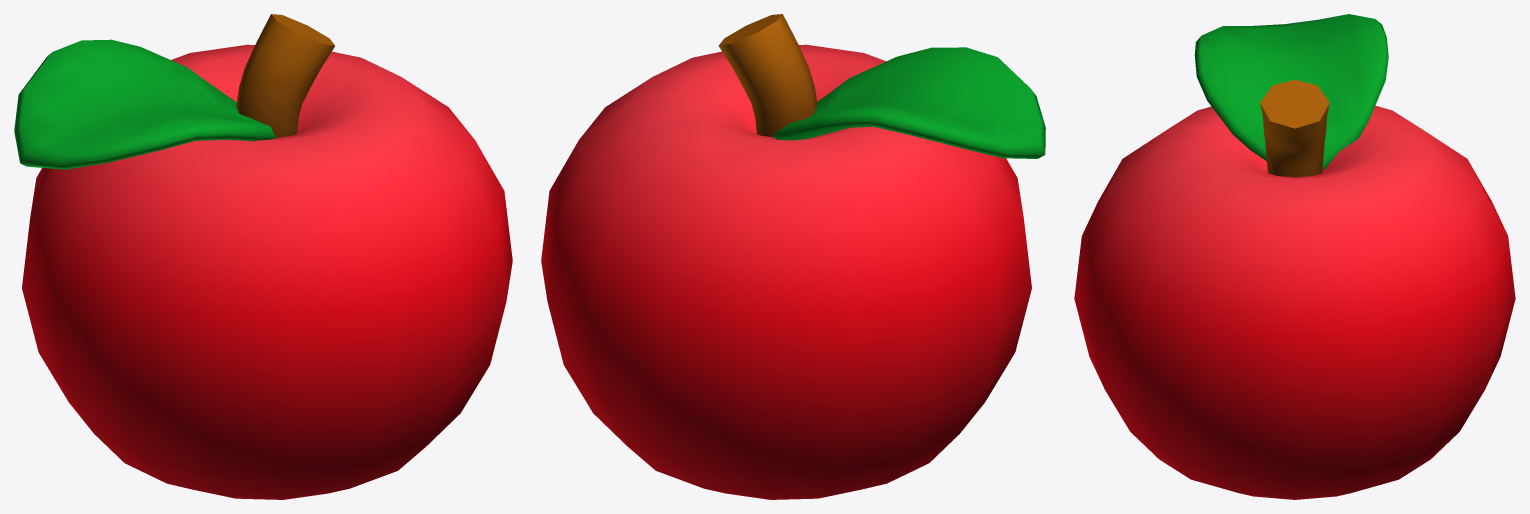
Rendered from Collectable_Apple_01.fbx.
3 views of the same model, side by side, from view 1: azimuth 30°, elevation 25°; view 2: azimuth 150°, elevation 25°; view 3: azimuth 270°, elevation 25° (orthographic). The views are drawn at different scales.
Visible parts, largest first — view 1: Collectable_Apple_01; view 2: Collectable_Apple_01; view 3: Collectable_Apple_01.
Part boxes in pixels (<box>): Collectable_Apple_01: <box>14,14,512,499</box>; Collectable_Apple_01: <box>541,14,1045,499</box>; Collectable_Apple_01: <box>1074,14,1515,499</box>.
Size of the model in its own units: 81.7 by 71.17 by 74.95.
1 material, 1 textured.
